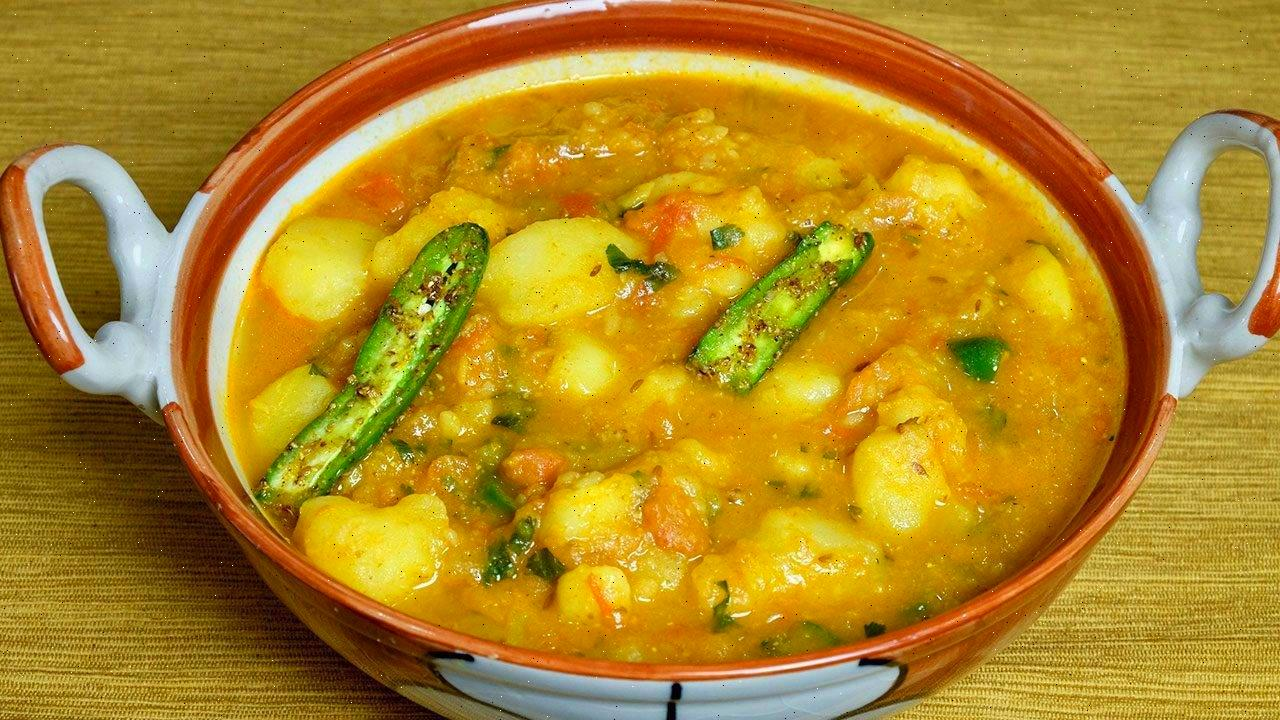aloo sabji: (301, 95, 1082, 596)
